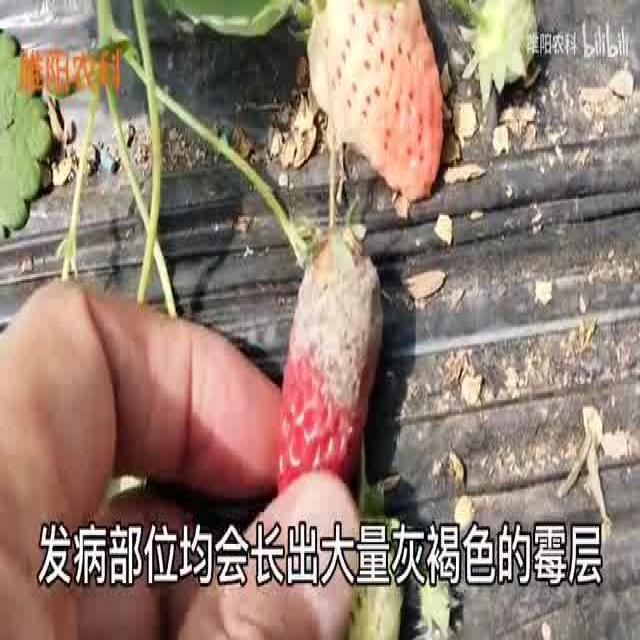Fruta sana: (308, 2, 444, 201), (459, 0, 537, 105), (343, 510, 406, 640)
Moho gris: (277, 226, 386, 508)
